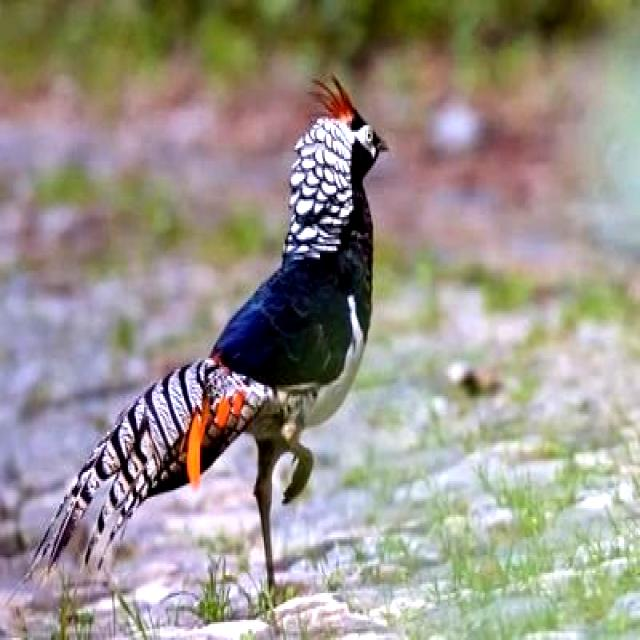Chrysolophus amherstiae: (35, 363, 208, 562), (205, 380, 272, 468)
